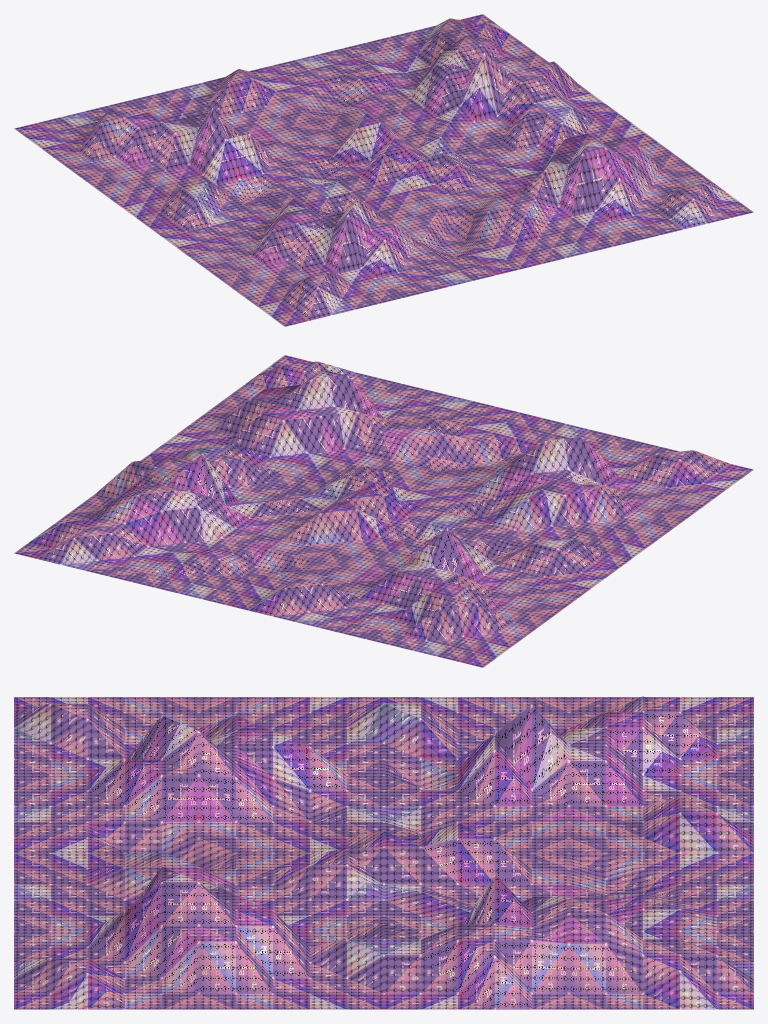
The model's file is dr-map1.FBX.
The picture shows the model from 3 angles, top to bottom: view 1: azimuth 30°, elevation 25°; view 2: azimuth 150°, elevation 25°; view 3: azimuth 270°, elevation 25°; orthographic projection. The views are drawn at different scales.
Visible parts, largest first — view 1: Plane001; view 2: Plane001; view 3: Plane001.
Part boxes in pixels (x1,y1,x2,y2): Plane001: (14,14,753,326); Plane001: (14,355,753,667); Plane001: (14,696,753,1009).
Bounding box in the file's own units: 100 × 100 × 13.36.
